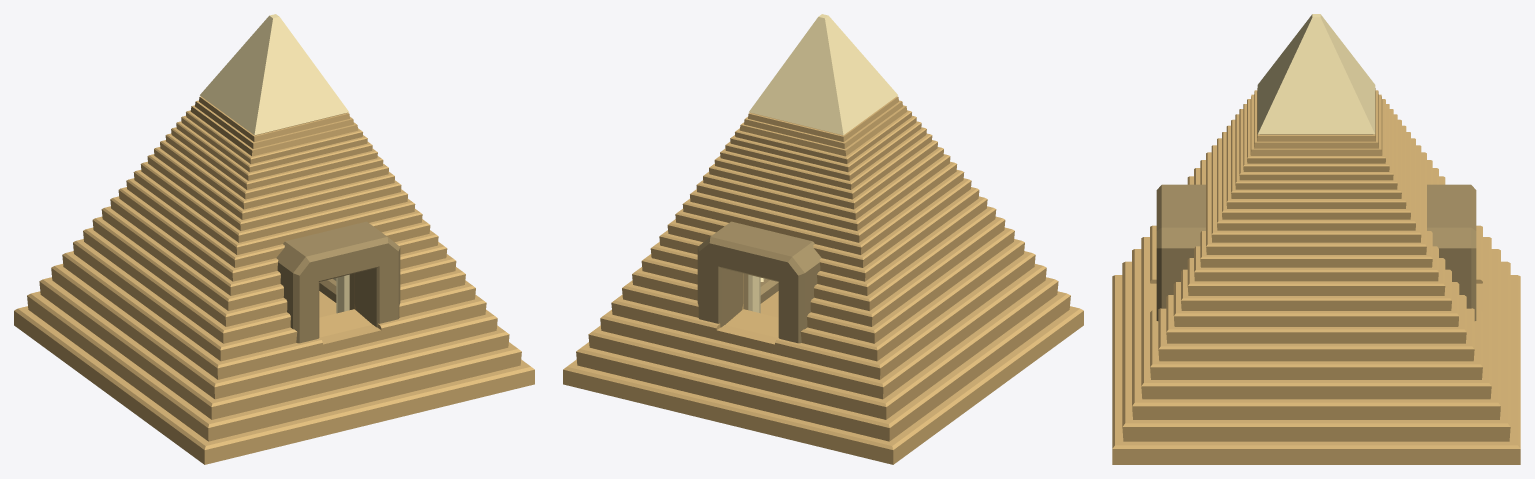
The model's file is piramida beta.fbx.
The picture shows the model from 3 angles, left to right: view 1: azimuth 30°, elevation 25°; view 2: azimuth 150°, elevation 25°; view 3: azimuth 270°, elevation 25°; orthographic projection. The views are drawn at different scales.
Parts seen in each view (by area): view 1: Piramid, Cube.021, Cube.032; view 2: Piramid, Cube.021, Cube.032; view 3: Piramid, Cube.021.
Part boxes in pixels (x1,y1,x2,y2): Piramid: [14, 14, 534, 464]; Cube.021: [276, 221, 400, 343]; Cube.032: [319, 273, 372, 337]; Piramid: [563, 14, 1083, 464]; Cube.021: [697, 221, 821, 343]; Cube.032: [725, 273, 778, 337]; Piramid: [1112, 14, 1520, 464]; Cube.021: [1156, 184, 1476, 320].
Size of the model in its own units: 2000 by 1960 by 2000.
